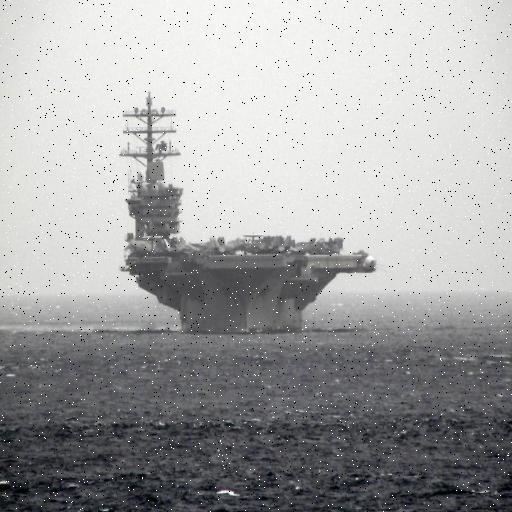Portanaves: (119, 88, 382, 340)
